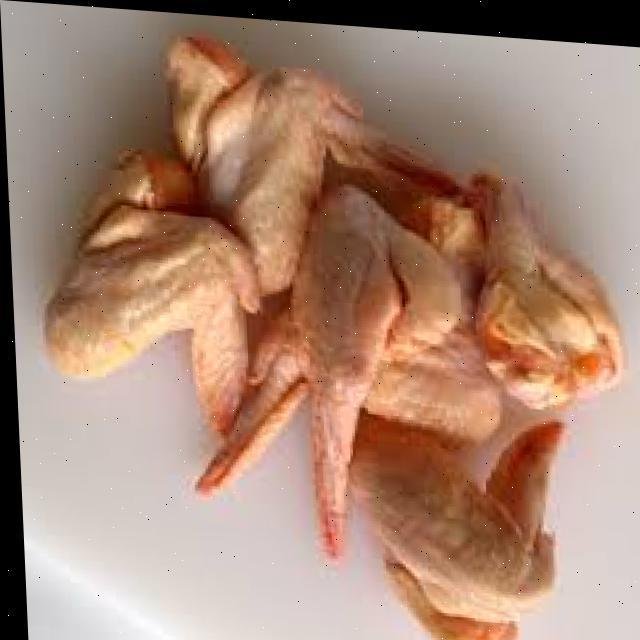wing: (273, 187, 494, 512), (162, 24, 435, 276), (34, 140, 250, 424), (345, 410, 595, 640)
